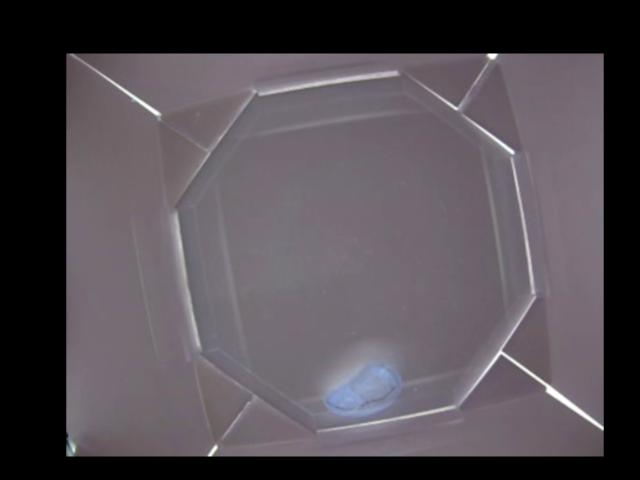Pebble: (324, 364, 403, 415)
